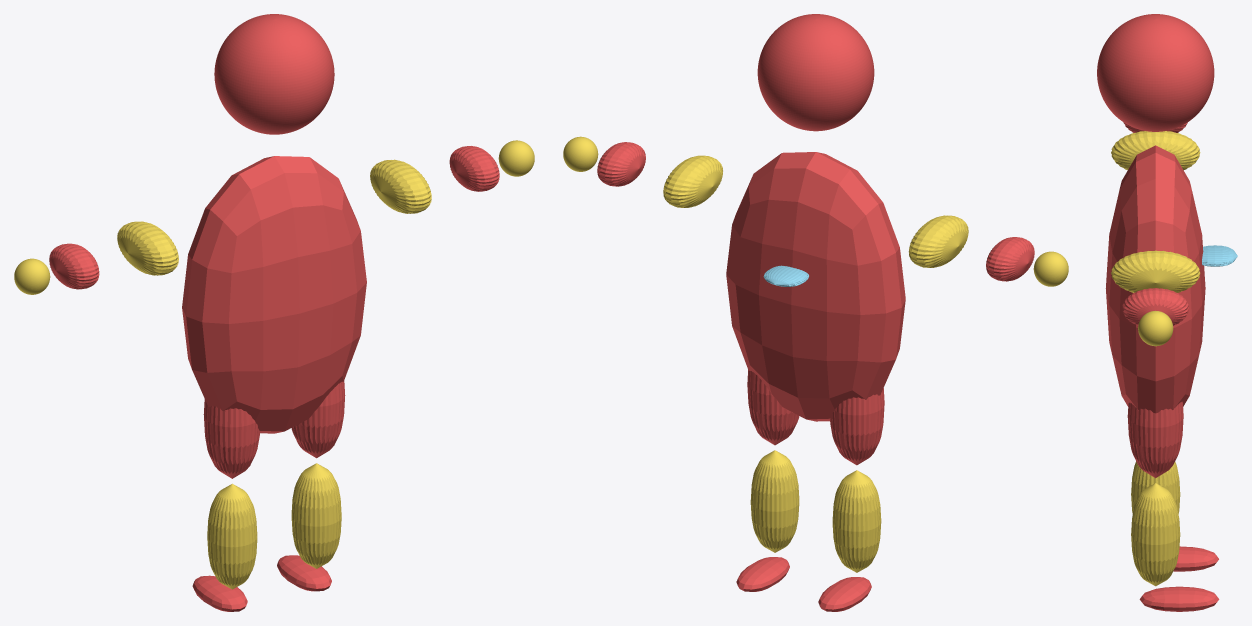
The model's file is run_ironman_app.fbx.
3 views of the same model, side by side, from view 1: azimuth 30°, elevation 25°; view 2: azimuth 150°, elevation 25°; view 3: azimuth 270°, elevation 25° (orthographic). The views are drawn at different scales.
Parts seen in each view (by area): view 1: Torso, Head, LeftLowerLeg, RightLowerLeg, LeftUpperLeg, LeftUpperArm, RightUpperArm, RightUpperLeg, LeftLowerArm, RightLowerArm, RightFoot, LeftFoot (+2 smaller); view 2: Torso, Head, LeftLowerLeg, RightLowerLeg, LeftUpperLeg, LeftUpperArm, RightUpperArm, RightUpperLeg, LeftLowerArm, RightLowerArm, LeftFoot, RightFoot (+3 smaller); view 3: Torso, Head, RightLowerLeg, RightUpperLeg, RightUpperArm, LeftUpperArm, RightLowerArm, RightFoot, LeftLowerLeg, RightHand, LeftFoot, ArcReactor.
Part boxes in pixels (bbox=[...]): Torso: bbox=[182, 156, 366, 433]; Head: bbox=[214, 14, 334, 134]; LeftLowerLeg: bbox=[207, 483, 257, 589]; RightLowerLeg: bbox=[291, 463, 341, 568]; LeftUpperLeg: bbox=[203, 399, 259, 478]; LeftUpperArm: bbox=[117, 221, 178, 275]; RightUpperArm: bbox=[370, 159, 431, 213]; RightUpperLeg: bbox=[291, 381, 345, 458]; LeftLowerArm: bbox=[49, 243, 99, 289]; RightLowerArm: bbox=[449, 146, 499, 191]; RightFoot: bbox=[277, 555, 331, 591]; LeftFoot: bbox=[192, 575, 247, 611]; Torso: bbox=[726, 152, 905, 421]; Head: bbox=[757, 14, 874, 131]; LeftLowerLeg: bbox=[832, 470, 881, 572]; RightLowerLeg: bbox=[750, 450, 799, 552]; LeftUpperLeg: bbox=[830, 388, 884, 465]; LeftUpperArm: bbox=[908, 215, 968, 267]; RightUpperArm: bbox=[663, 155, 722, 207]; RightUpperLeg: bbox=[747, 370, 799, 445]; LeftLowerArm: bbox=[986, 237, 1034, 281]; RightLowerArm: bbox=[597, 142, 645, 186]; LeftFoot: bbox=[818, 577, 871, 611]; RightFoot: bbox=[736, 557, 789, 591]; Torso: bbox=[1105, 145, 1205, 413]; Head: bbox=[1097, 14, 1214, 131]; RightLowerLeg: bbox=[1131, 483, 1180, 586]; RightUpperLeg: bbox=[1127, 401, 1183, 478]; RightUpperArm: bbox=[1111, 250, 1200, 292]; LeftUpperArm: bbox=[1111, 131, 1200, 170]; RightLowerArm: bbox=[1122, 288, 1188, 325]; RightFoot: bbox=[1139, 586, 1219, 611]; LeftLowerLeg: bbox=[1131, 461, 1180, 513]; RightHand: bbox=[1138, 310, 1173, 346]; LeftFoot: bbox=[1173, 546, 1218, 571]; ArcReactor: bbox=[1202, 245, 1237, 266].
Size of the model in its own units: 490 by 528 by 119.
